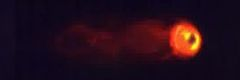keyhole: (185, 31, 199, 47)
